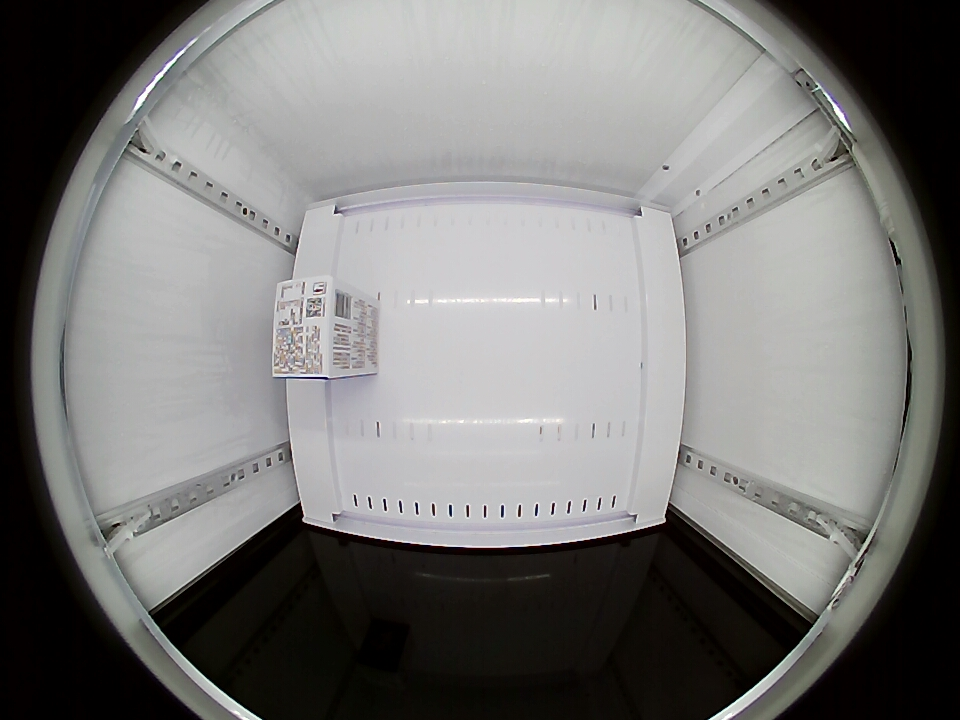meiniye: (271, 275, 357, 380)
